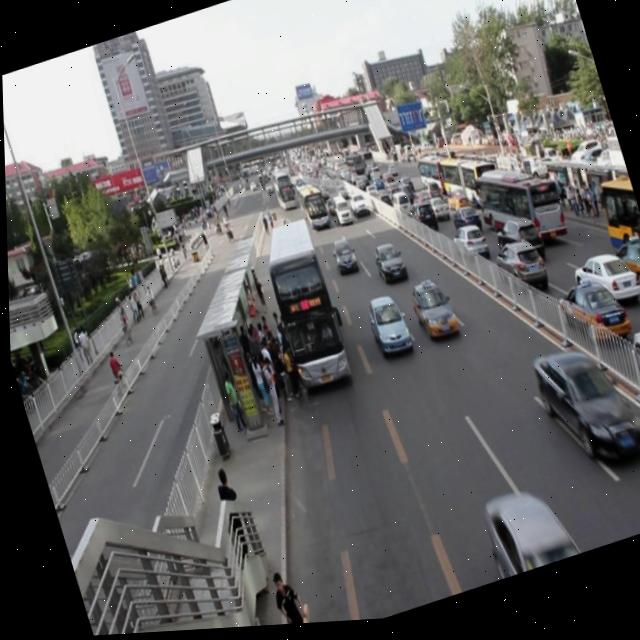car: (526, 338, 640, 485), (475, 486, 576, 586), (404, 279, 456, 350), (362, 296, 409, 362), (368, 242, 406, 289), (327, 240, 354, 278), (344, 193, 365, 222), (332, 186, 348, 207), (313, 187, 329, 206), (322, 203, 335, 218)
truck: (329, 197, 350, 229)
van: (255, 219, 349, 396), (294, 183, 326, 232), (268, 173, 295, 214)
